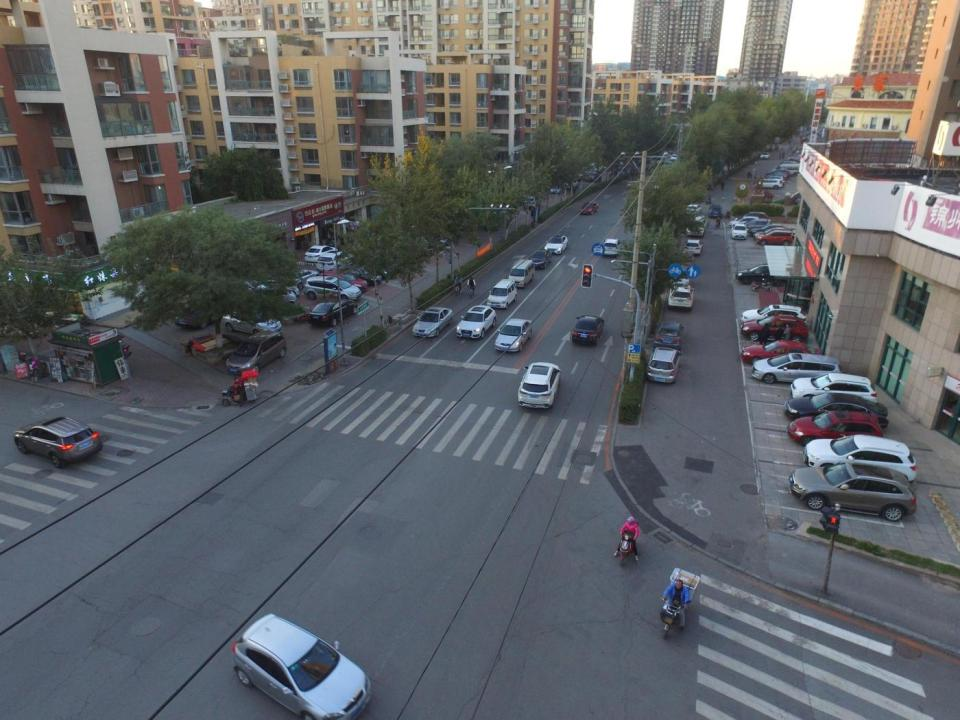car: (790, 461, 918, 522), (798, 432, 920, 487), (12, 414, 104, 469), (782, 394, 892, 439), (788, 411, 889, 454), (789, 377, 876, 414), (224, 327, 289, 376), (736, 340, 823, 375), (516, 358, 562, 411), (222, 306, 283, 343), (738, 315, 812, 343), (170, 296, 234, 328), (738, 305, 809, 329), (735, 264, 798, 288), (307, 298, 359, 327), (244, 282, 298, 309), (456, 304, 496, 340), (412, 304, 452, 340), (644, 346, 679, 385), (494, 318, 534, 351), (569, 311, 604, 346), (323, 269, 367, 293), (256, 277, 300, 300), (485, 278, 518, 308), (654, 319, 683, 352), (314, 250, 356, 272), (284, 267, 319, 291), (344, 265, 383, 286), (302, 244, 342, 264), (754, 228, 796, 247), (749, 225, 794, 241), (752, 227, 796, 243), (668, 283, 695, 309), (525, 248, 553, 270), (742, 218, 773, 237), (733, 211, 771, 226), (545, 233, 569, 255), (727, 217, 762, 231), (686, 214, 707, 237), (675, 251, 696, 273), (602, 237, 621, 258), (683, 237, 704, 256), (520, 194, 542, 210), (578, 198, 599, 214), (756, 179, 783, 191), (731, 224, 747, 240), (708, 204, 724, 220), (684, 202, 702, 216), (548, 181, 564, 195), (562, 177, 579, 190), (584, 172, 603, 182), (663, 160, 675, 170), (760, 151, 771, 161), (670, 154, 679, 161)
van: (753, 352, 846, 393), (303, 276, 361, 304), (505, 260, 534, 289)
